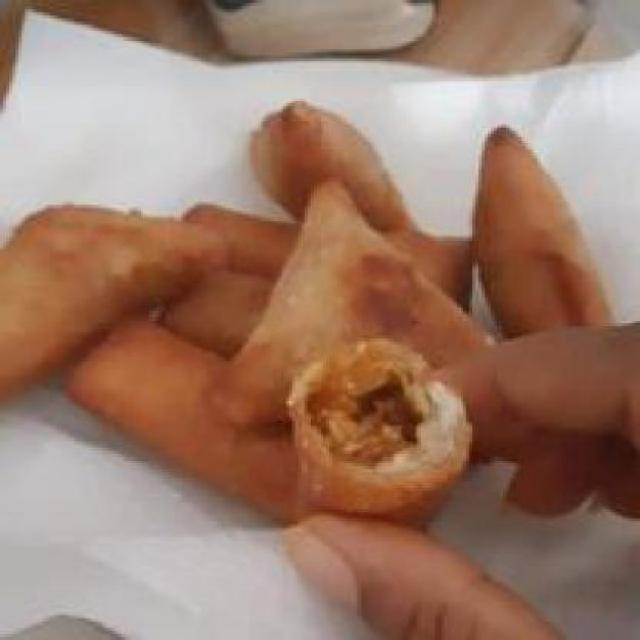samosa: (215, 90, 487, 404), (463, 112, 619, 339)
spring rolls: (83, 189, 475, 525)
